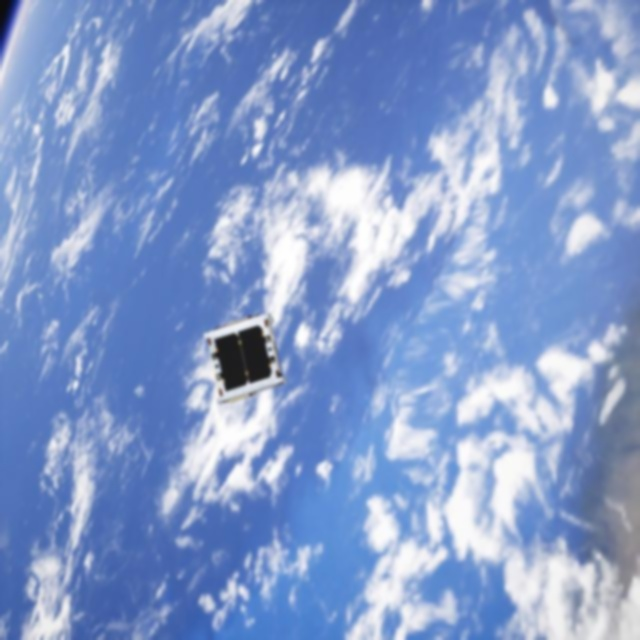satellite: (203, 317, 292, 406)
